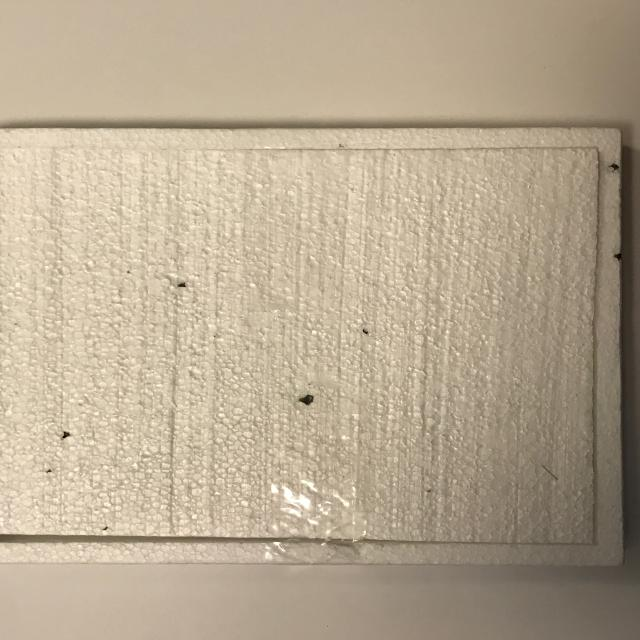trash: (1, 126, 626, 566)
